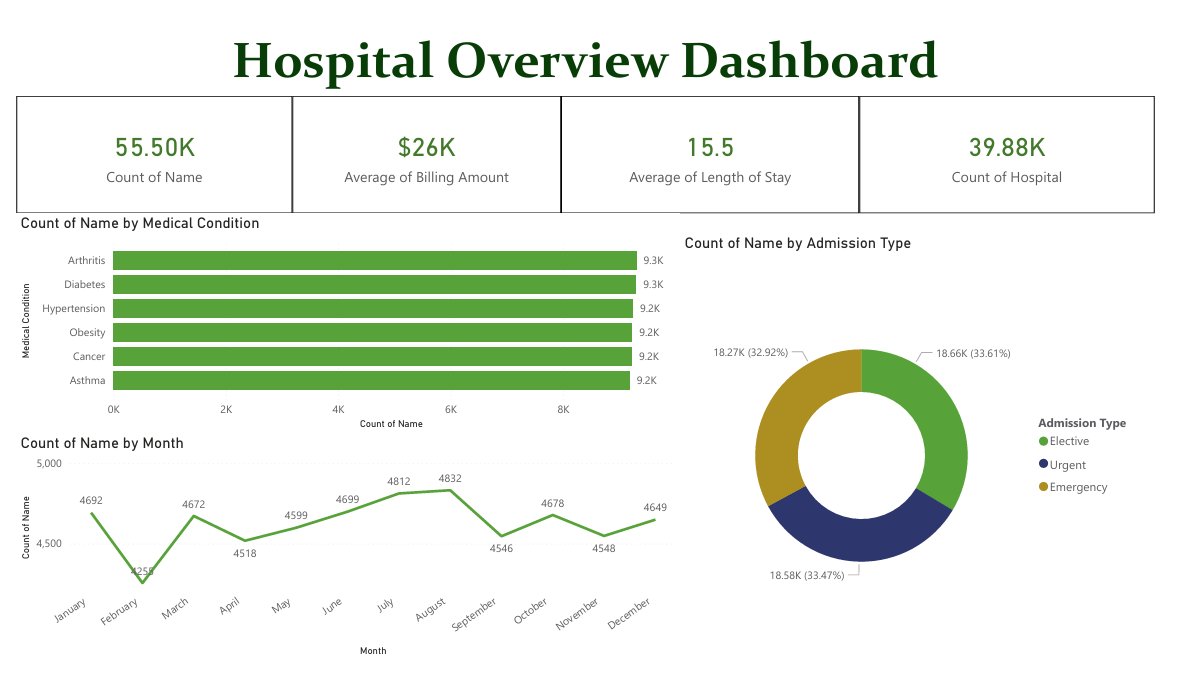

The dashboard page shown, as its layout file describes it:
{"tool":"powerbi","page":{"name":"Executive Overview","canvas":[1280,720],"ordinal":0},"visuals":[{"type":"card","fields":{"Values":["CountNonNull(healthcare_analysis patients.Name)"]},"box":[0,85,309.9,132.3],"z":0},{"type":"card","fields":{"Values":["Avg(healthcare_analysis patients.Billing Amount)"]},"box":[309.9,85,302.4,132.3],"z":1000},{"type":"card","fields":{"Values":["Avg(healthcare_analysis patients.Length of Stay)"]},"box":[612.3,85,334.5,132.3],"z":2000},{"type":"card","fields":{"Values":["Count(healthcare_analysis patients.Hospital)"]},"box":[946.8,85,332.6,132.3],"z":3000},{"type":"barChart","fields":{"Category":["healthcare_analysis patients.Medical Condition"],"Y":["CountNonNull(healthcare_analysis patients.Name)"]},"box":[0,217.3,746.5,247.6],"z":4000},{"type":"donutChart","fields":{"Category":["healthcare_analysis patients.Admission Type"],"Y":["CountNonNull(healthcare_analysis patients.Name)"]},"box":[746.5,240,521.6,480],"z":5000},{"type":"lineChart","fields":{"Y":["CountNonNull(healthcare_analysis patients.Name)"],"Category":["healthcare_analysis patients.Date of Admission.Variation.Date Hierarchy.Month"]},"box":[0,464.9,746.5,255.1],"z":6000},{"type":"textbox","box":[0,5.7,1279.4,79.4],"z":7000}]}

Visuals, with their boxes in screenshot pixels (x1, y1, x2, y2), scaled from the page's 1280x720 canvas onto the 1177x679 screenshot:
card - CountNonNull(healthcare_analysis patients.Name): (x1=0, y1=80, x2=285, y2=205)
card - Avg(healthcare_analysis patients.Billing Amount): (x1=285, y1=80, x2=563, y2=205)
card - Avg(healthcare_analysis patients.Length of Stay): (x1=563, y1=80, x2=871, y2=205)
card - Count(healthcare_analysis patients.Hospital): (x1=871, y1=80, x2=1176, y2=205)
barChart - healthcare_analysis patients.Medical Condition x CountNonNull(healthcare_analysis patients.Name): (x1=0, y1=205, x2=686, y2=438)
donutChart - healthcare_analysis patients.Admission Type x CountNonNull(healthcare_analysis patients.Name): (x1=686, y1=226, x2=1166, y2=678)
lineChart - CountNonNull(healthcare_analysis patients.Name) x healthcare_analysis patients.Date of Admission.Variation.Date Hierarchy.Month: (x1=0, y1=438, x2=686, y2=678)
textbox: (x1=0, y1=5, x2=1176, y2=80)
